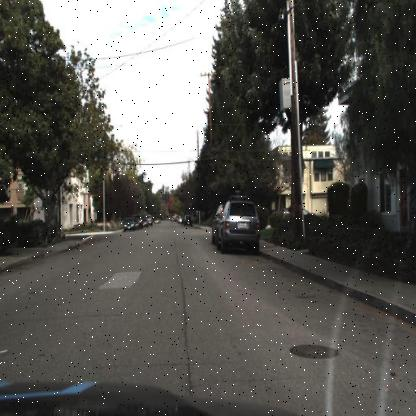car: (216, 190, 264, 262), (206, 196, 224, 260), (212, 200, 226, 250), (120, 216, 136, 234)
